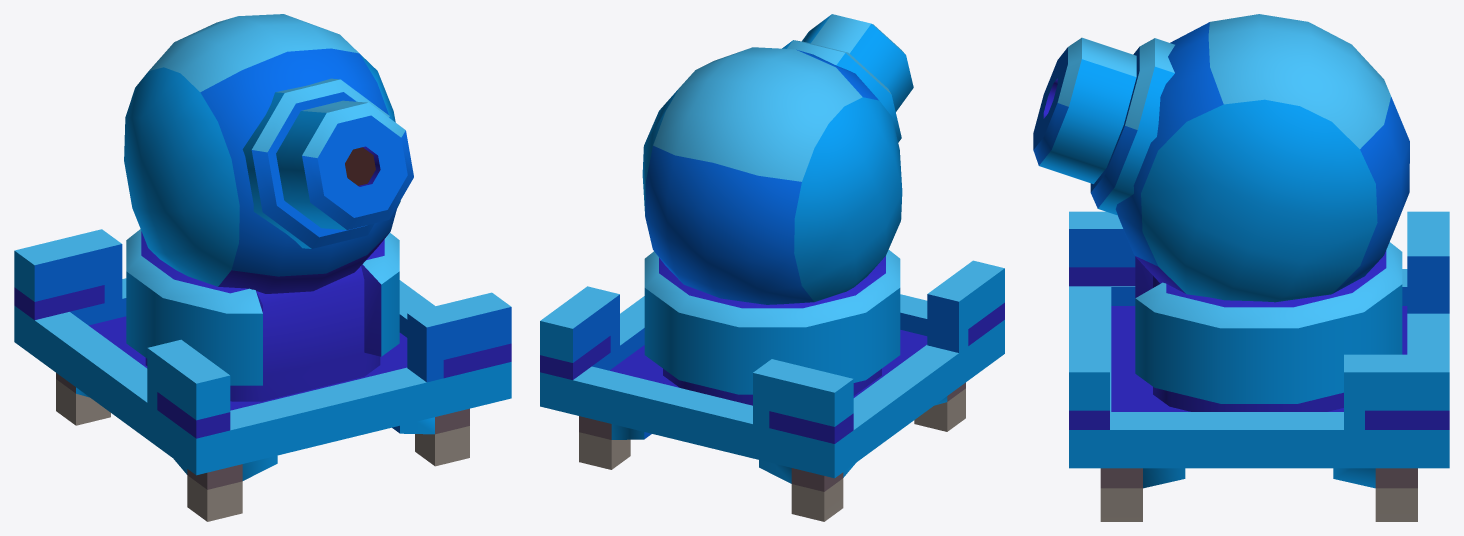
Rendered from PipeRunnerMesh.BlueMoon.glb.
The picture shows the model from 3 angles, left to right: view 1: azimuth 30°, elevation 25°; view 2: azimuth 150°, elevation 25°; view 3: azimuth 270°, elevation 25°; orthographic projection. The views are drawn at different scales.
Parts seen in each view (by area): view 1: PipeRunnerMesh.BlueMoon; view 2: PipeRunnerMesh.BlueMoon; view 3: PipeRunnerMesh.BlueMoon.
Part boxes in pixels (x1,y1,x2,y2): PipeRunnerMesh.BlueMoon: (14, 14, 511, 521); PipeRunnerMesh.BlueMoon: (540, 14, 1004, 521); PipeRunnerMesh.BlueMoon: (1033, 14, 1449, 521).
Size of the model in its own units: 1.8 by 2.23 by 1.97.
Materials: 1 (1 with a texture image).
